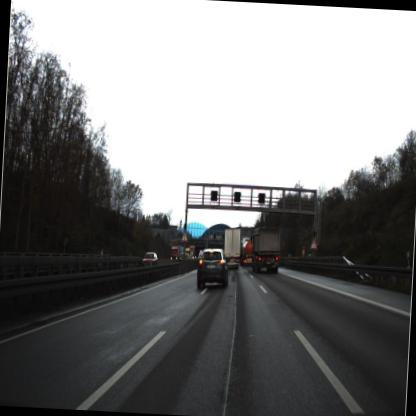danger: (308, 235, 318, 253), (180, 228, 190, 245)
